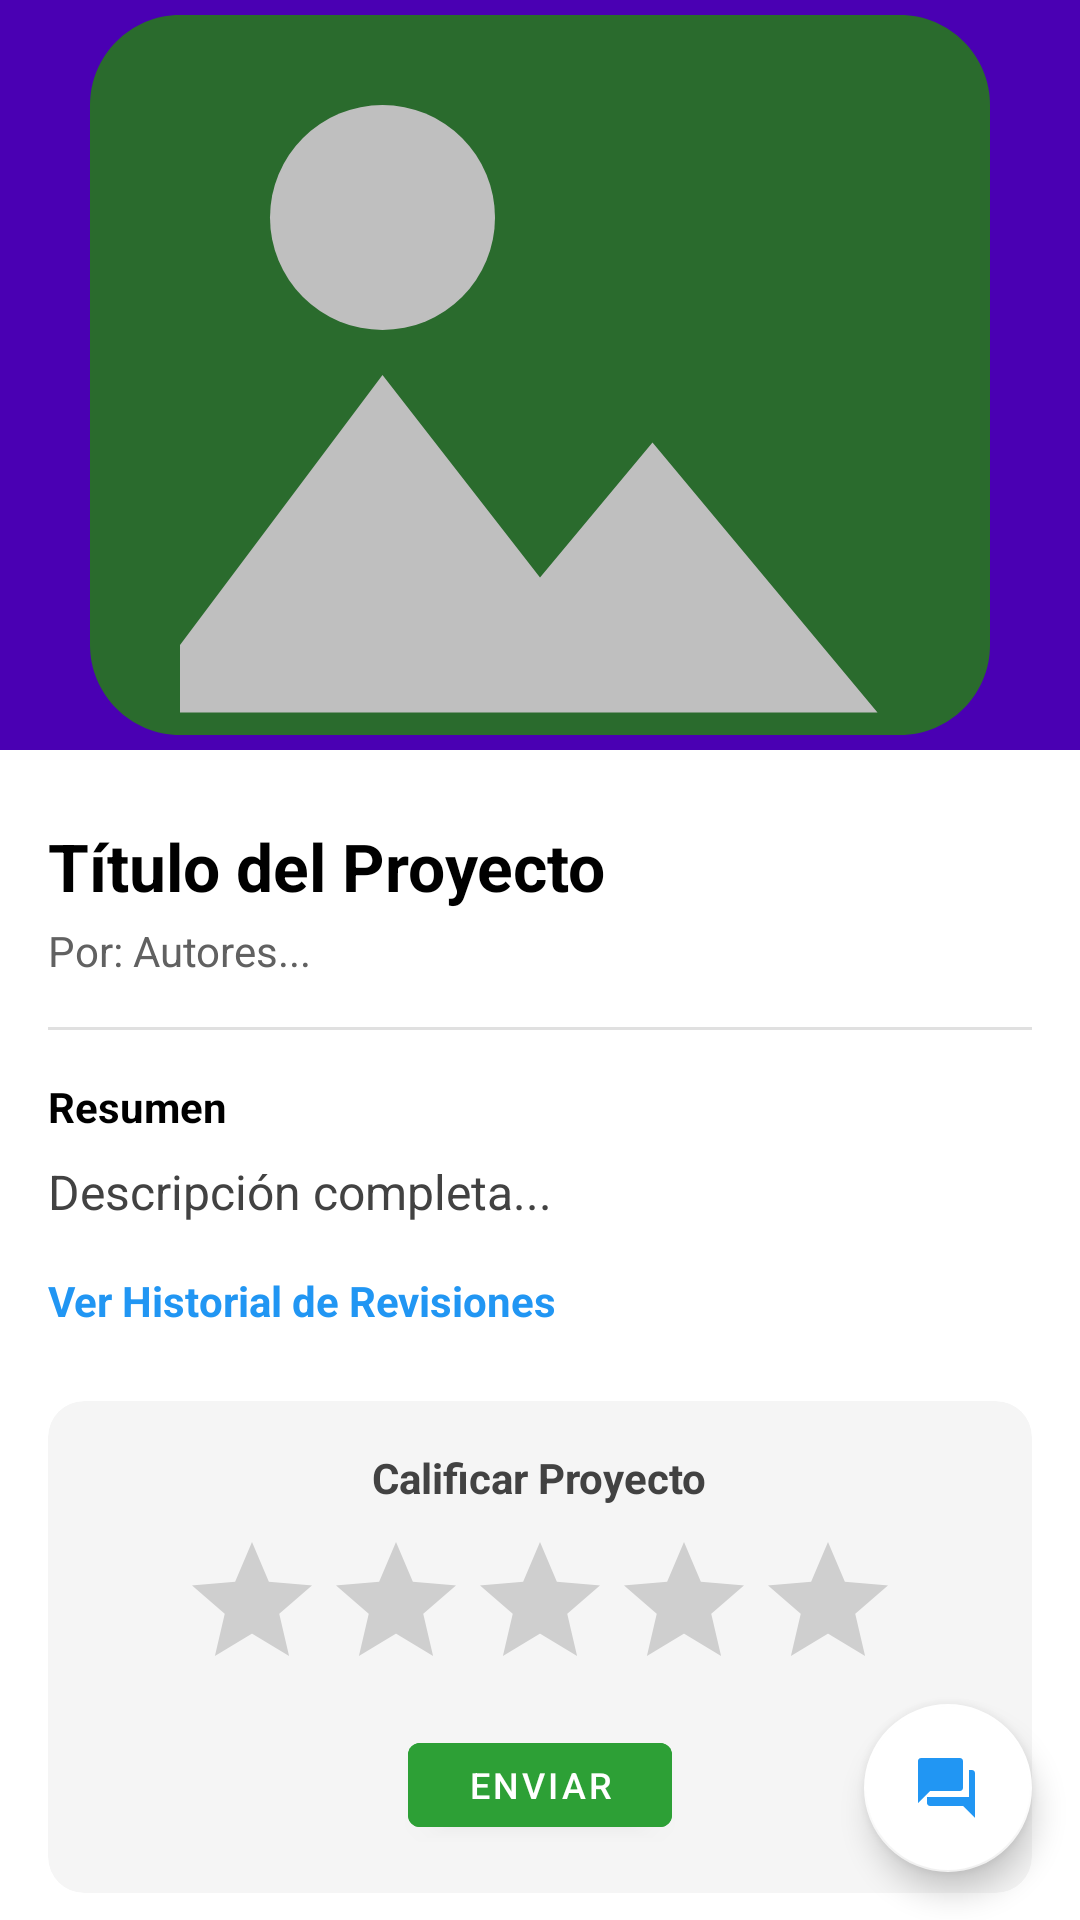

Icons on this 1080 × 1920 Android screen, each with the point to tap as point (x, y):
comment: point (946, 1788)
